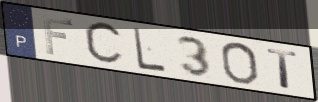3: (175, 34, 214, 78)
C: (82, 20, 126, 67)
F: (40, 14, 76, 56)
L: (131, 26, 168, 74)
O: (218, 41, 260, 85)
T: (265, 47, 301, 91)
